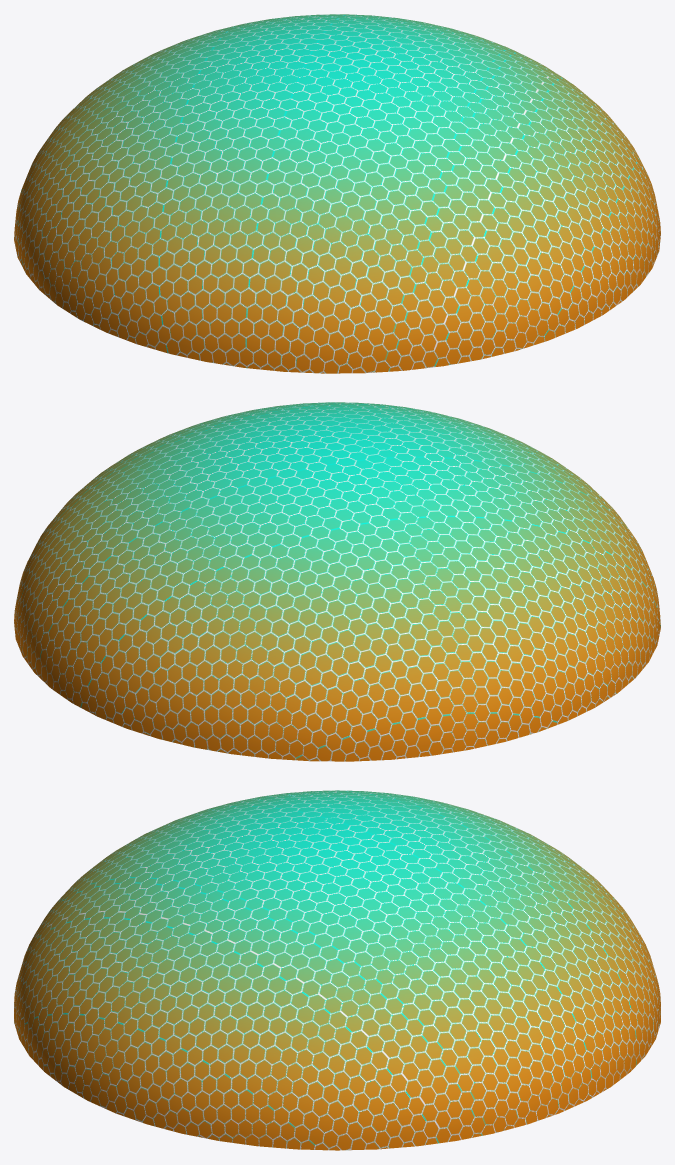
The model's file is Dome_001.fbx.
3 views of the same model, one above another, from view 1: azimuth 30°, elevation 25°; view 2: azimuth 150°, elevation 25°; view 3: azimuth 270°, elevation 25° (orthographic).
Parts seen in each view (by area): view 1: polySurface3; view 2: polySurface3; view 3: polySurface3.
Part boxes in pixels (left/top/right/bottom): polySurface3: left=14, top=14, right=660, bottom=373; polySurface3: left=14, top=402, right=660, bottom=761; polySurface3: left=14, top=790, right=660, bottom=1150.
Bounding box in the file's own units: 19597 × 5879 × 19559.
